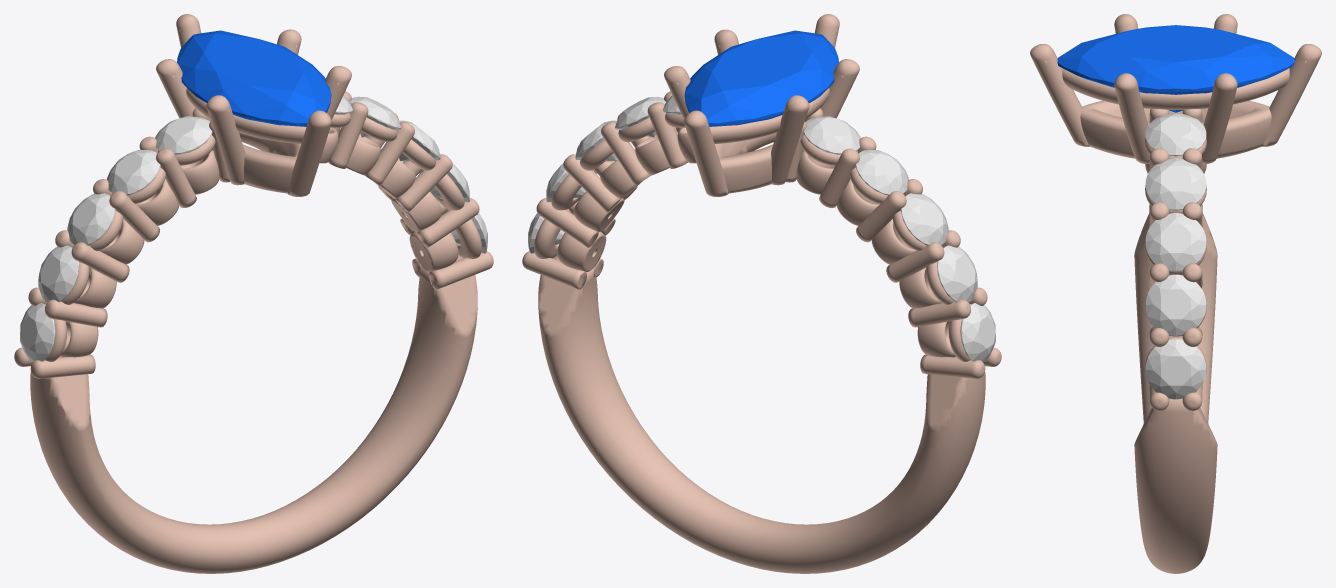
File: bluesapphire-marquise-rosegold-6prong-taperedband-11stone.glb
3 views of the same model, side by side, from view 1: azimuth 30°, elevation 25°; view 2: azimuth 150°, elevation 25°; view 3: azimuth 270°, elevation 25° (orthographic).
Parts seen in each view (by area): view 1: metal.001, stone.001, dia.014, dia.013, dia.015, dia.001, dia.016, dia.020; view 2: metal.001, stone.001, dia.014, dia.013, dia.015, dia.001, dia.016, dia.020; view 3: metal.001, stone.001, dia.018, dia.017, dia.019, dia.020, dia.021.
Boxes of the visible parts, x1=… form: metal.001: x1=14, y1=14, x2=493, y2=573; stone.001: x1=177, y1=30, x2=331, y2=126; dia.014: x1=67, y1=193, x2=115, y2=245; dia.013: x1=38, y1=245, x2=78, y2=302; dia.015: x1=106, y1=150, x2=160, y2=195; dia.001: x1=20, y1=303, x2=55, y2=362; dia.016: x1=155, y1=116, x2=212, y2=154; dia.020: x1=349, y1=96, x2=400, y2=137; metal.001: x1=522, y1=14, x2=1001, y2=573; stone.001: x1=684, y1=30, x2=838, y2=126; dia.014: x1=900, y1=193, x2=948, y2=245; dia.013: x1=937, y1=245, x2=977, y2=302; dia.015: x1=855, y1=150, x2=908, y2=195; dia.001: x1=960, y1=303, x2=995, y2=362; dia.016: x1=803, y1=116, x2=860, y2=154; dia.020: x1=615, y1=96, x2=666, y2=137; metal.001: x1=1030, y1=14, x2=1321, y2=573; stone.001: x1=1057, y1=25, x2=1294, y2=112; dia.018: x1=1145, y1=274, x2=1206, y2=335; dia.017: x1=1145, y1=339, x2=1206, y2=399; dia.019: x1=1145, y1=213, x2=1206, y2=271; dia.020: x1=1145, y1=158, x2=1206, y2=210; dia.021: x1=1145, y1=113, x2=1206, y2=156.
Size of the model in its own units: 21.88 by 22.93 by 11.96.
